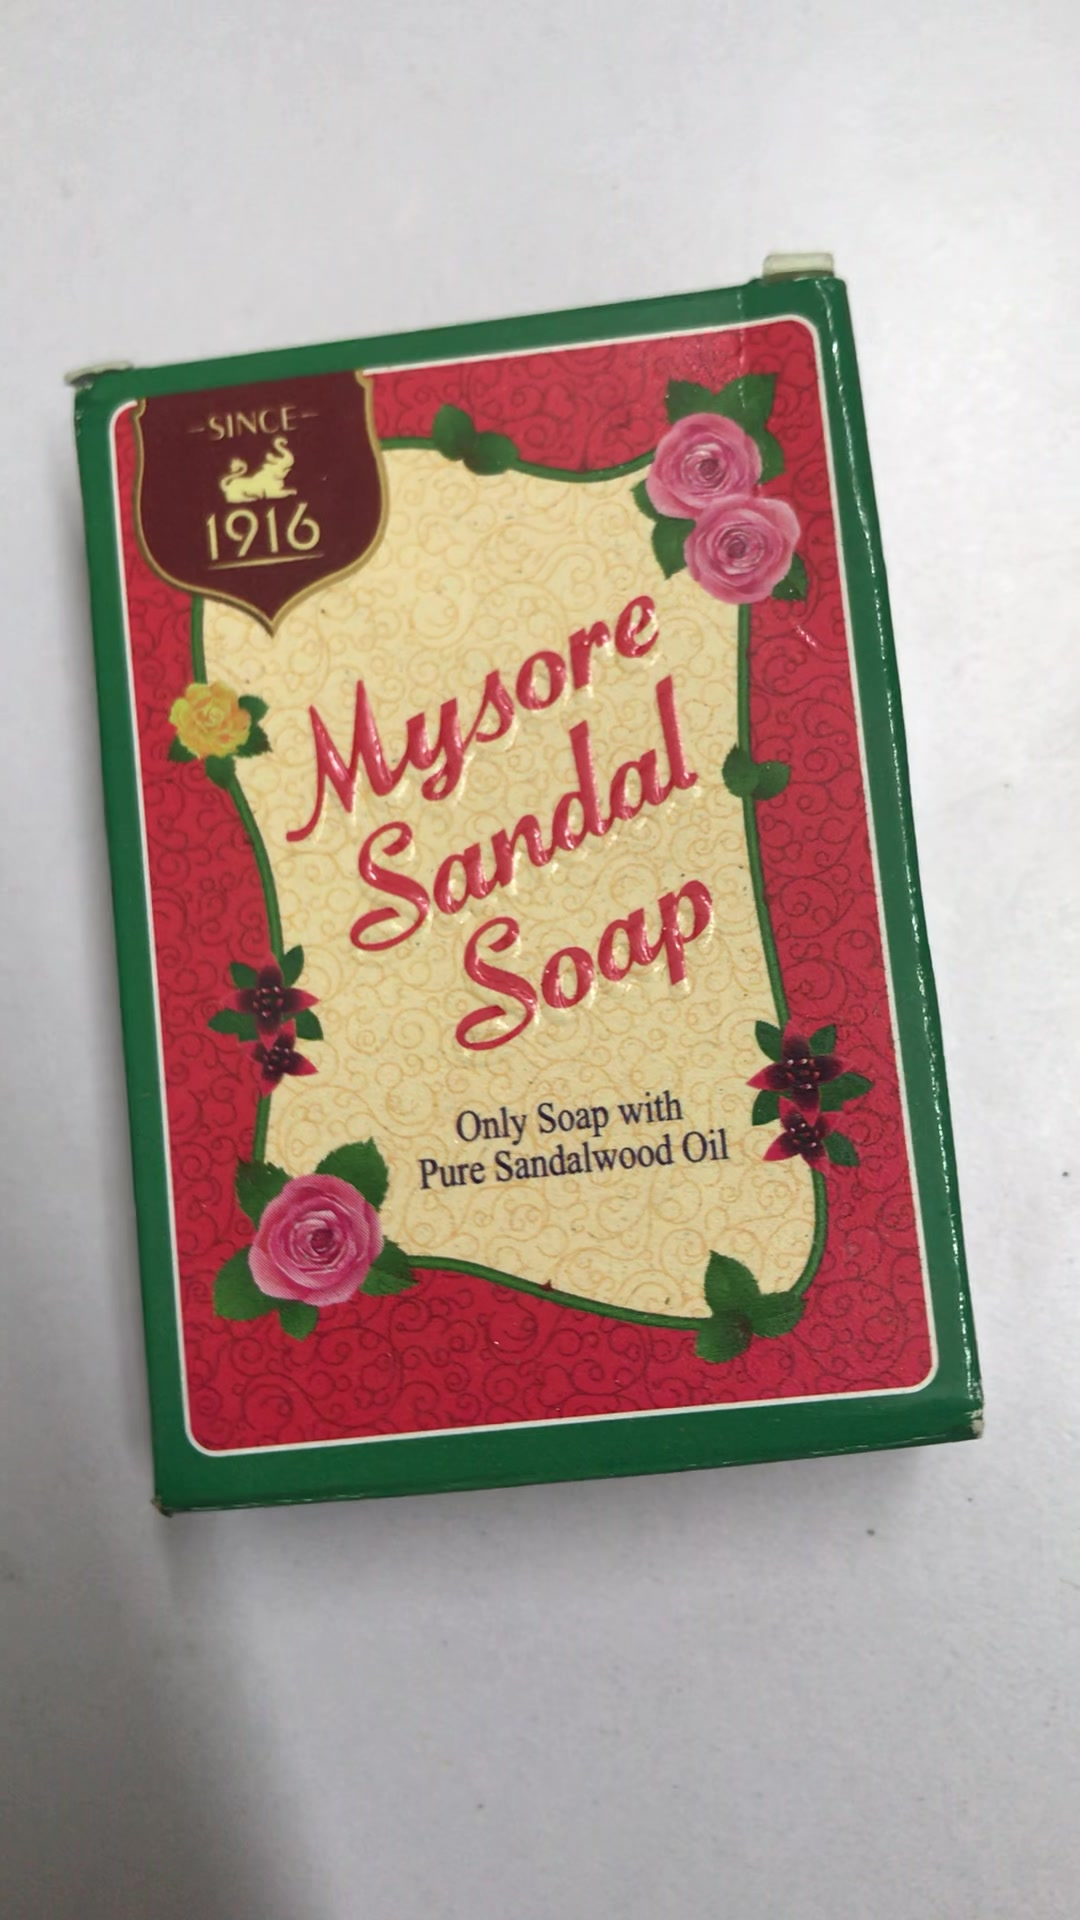mysore sandal soap: (74, 273, 986, 1511)
